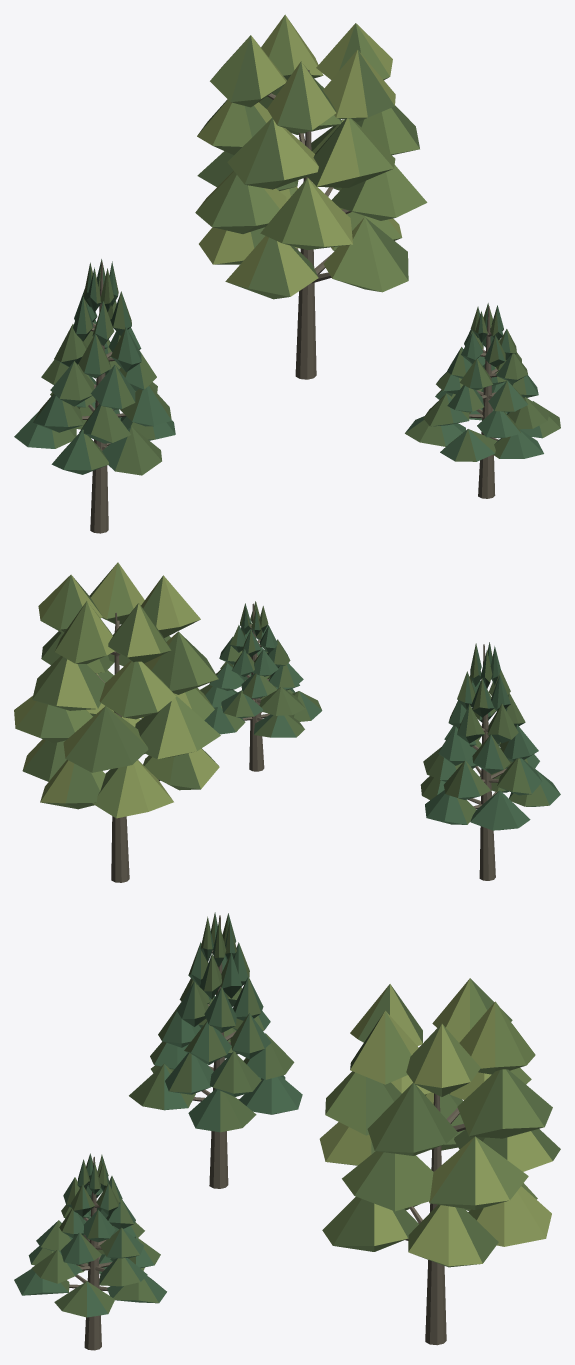
Rendered from TREE8.glb.
The picture shows the model from 3 angles, top to bottom: view 1: azimuth 30°, elevation 25°; view 2: azimuth 150°, elevation 25°; view 3: azimuth 270°, elevation 25°; orthographic projection. The views are drawn at different scales.
Parts seen in each view (by area): view 1: Fitted street and landscape details; view 2: Fitted street and landscape details; view 3: Fitted street and landscape details.
Boxes of the visible parts, <box> form: Fitted street and landscape details: <box>14,14,560,533</box>; Fitted street and landscape details: <box>14,562,560,882</box>; Fitted street and landscape details: <box>14,912,560,1350</box>.
Size of the model in its own units: 12.23 by 8.3 by 11.97.
